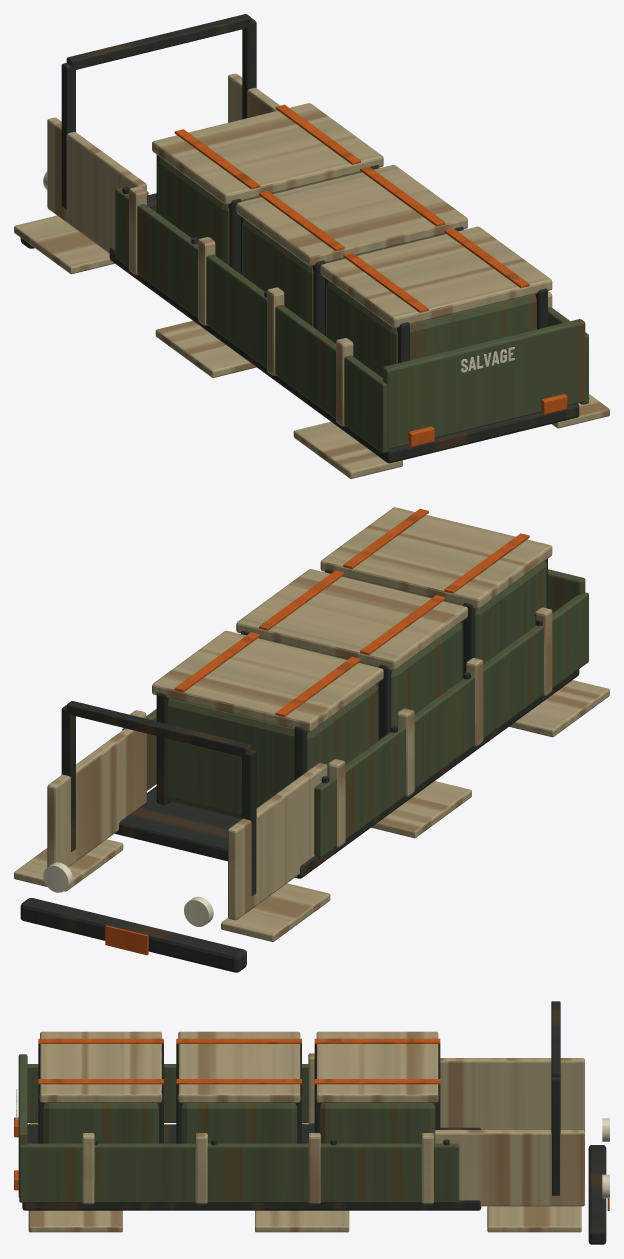
Rendered from convoy-cargo-lod.obj.
The picture shows the model from 3 angles, top to bottom: view 1: azimuth 30°, elevation 25°; view 2: azimuth 150°, elevation 25°; view 3: azimuth 270°, elevation 25°; orthographic projection. The views are drawn at different scales.
Visible parts, largest first — view 1: convoy-cargo.001; view 2: convoy-cargo.001; view 3: convoy-cargo.001.
Boxes of the visible parts, <box> form: convoy-cargo.001: <box>14,14,609,478</box>; convoy-cargo.001: <box>14,507,609,972</box>; convoy-cargo.001: <box>14,1001,609,1244</box>.
Size of the model in its own units: 1.96 by 1.46 by 4.74.
